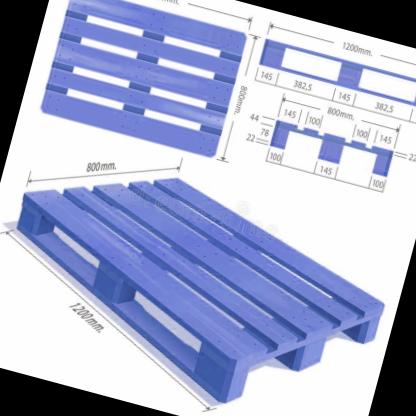BoxFace: (15, 174, 384, 406), (34, 0, 247, 165), (261, 34, 416, 110), (267, 118, 395, 181)
